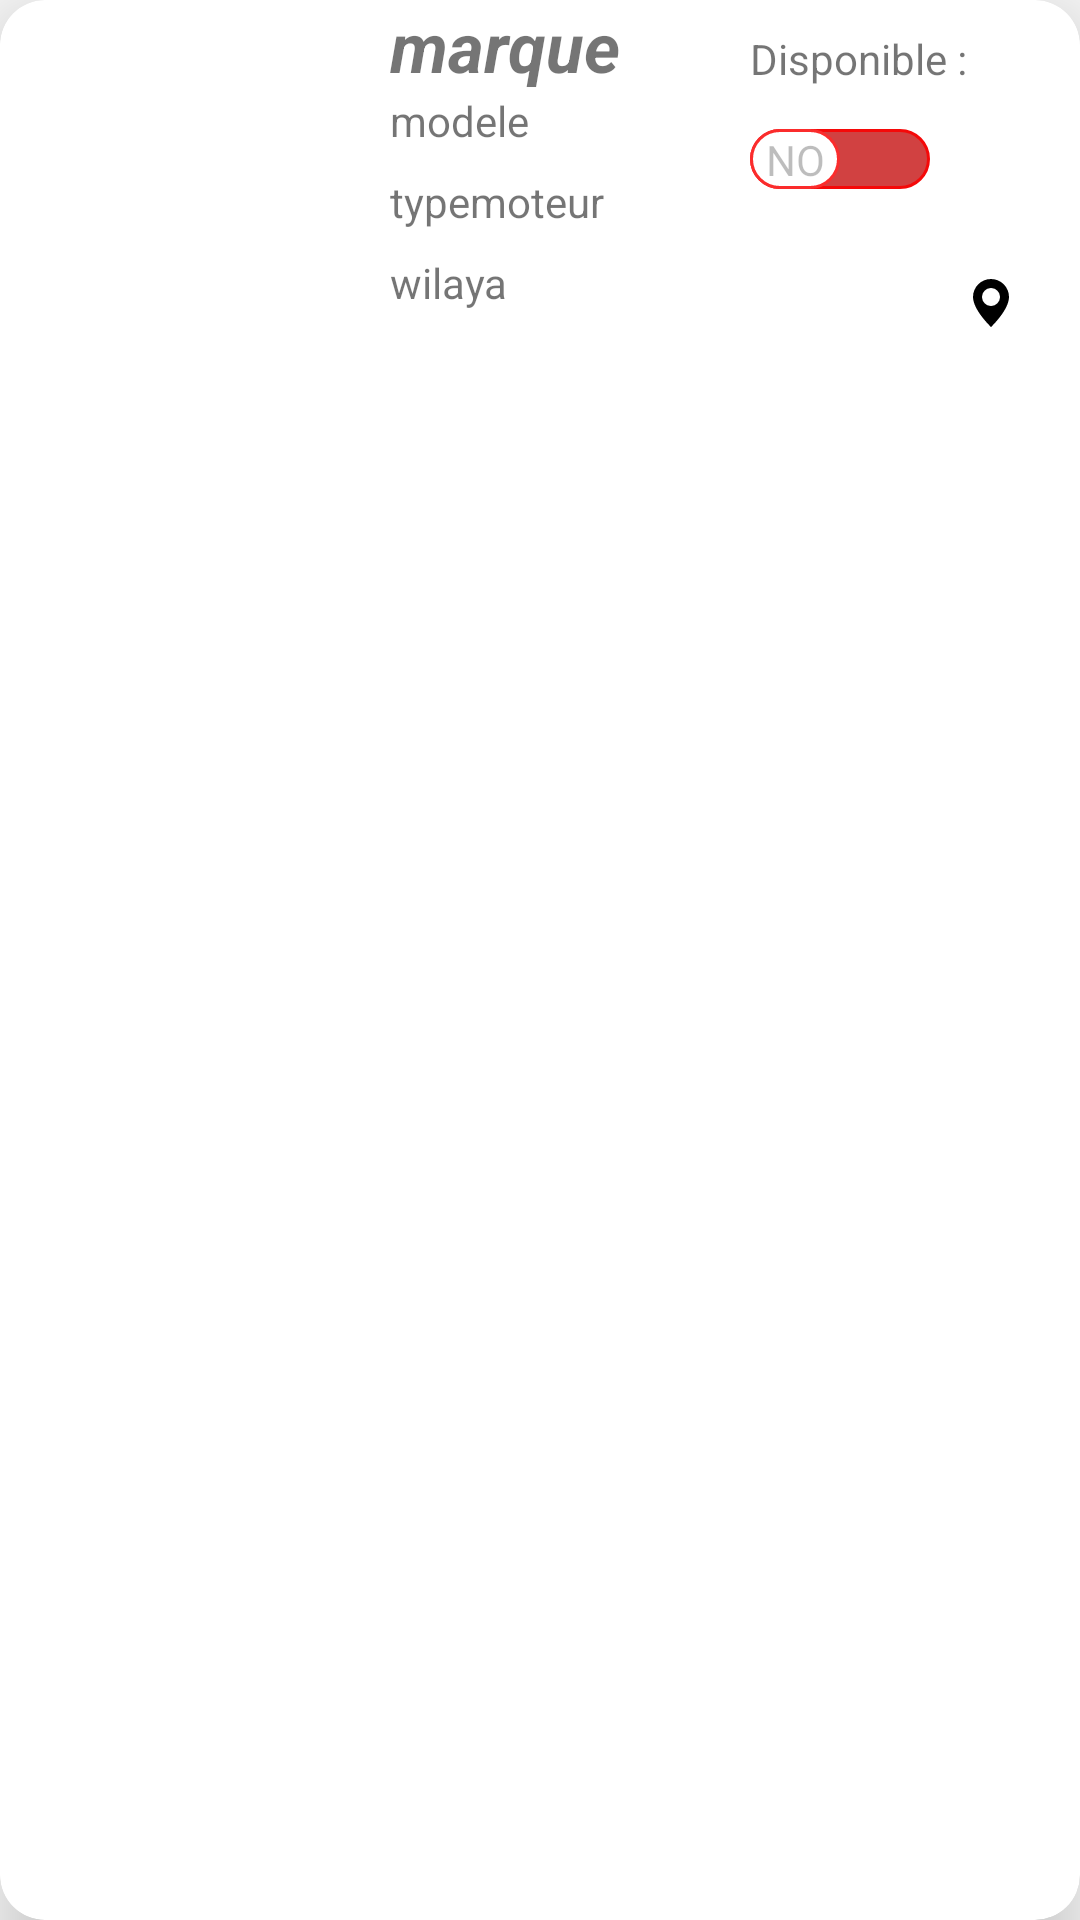

Screen size 1080 × 1920. Icon name, then its center in pixels as (x,y):
localisation: (991,303)
